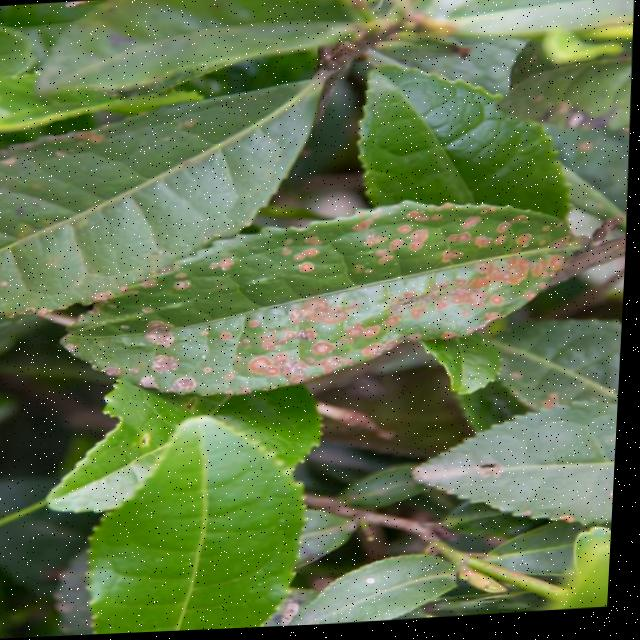Tea algae leaf spot: (82, 195, 563, 396)
